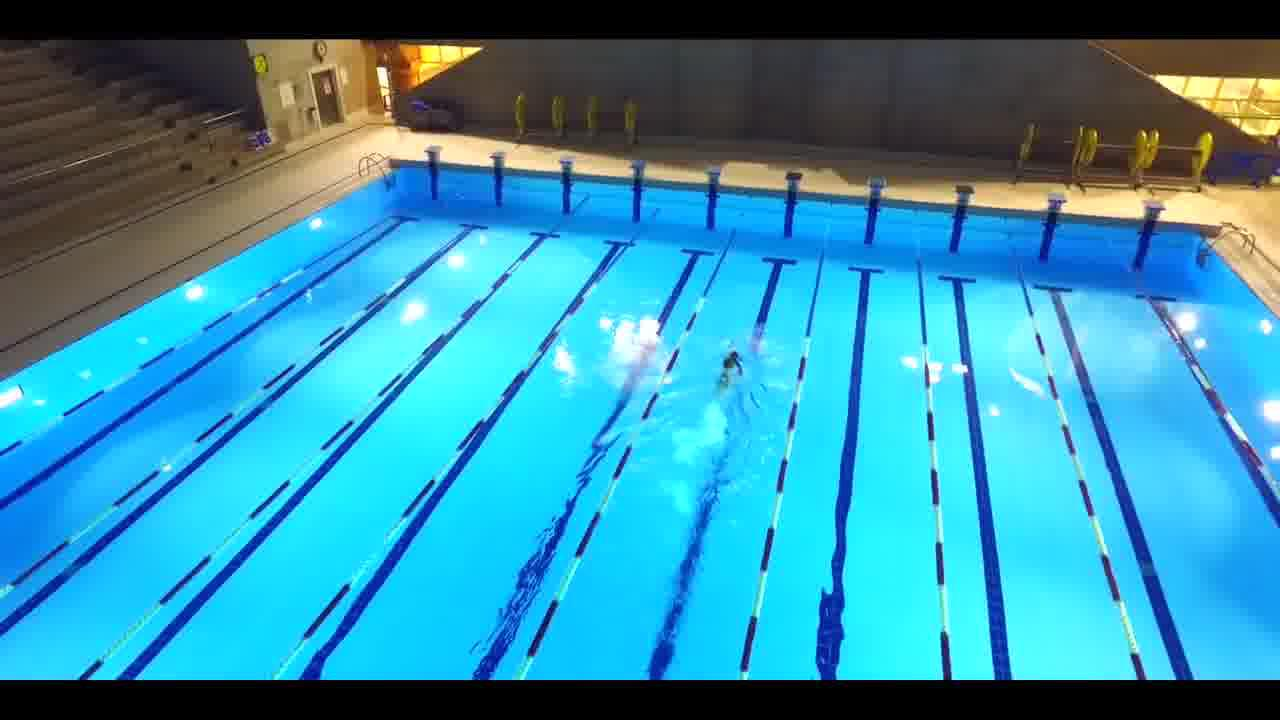human: (720, 347, 743, 390)
